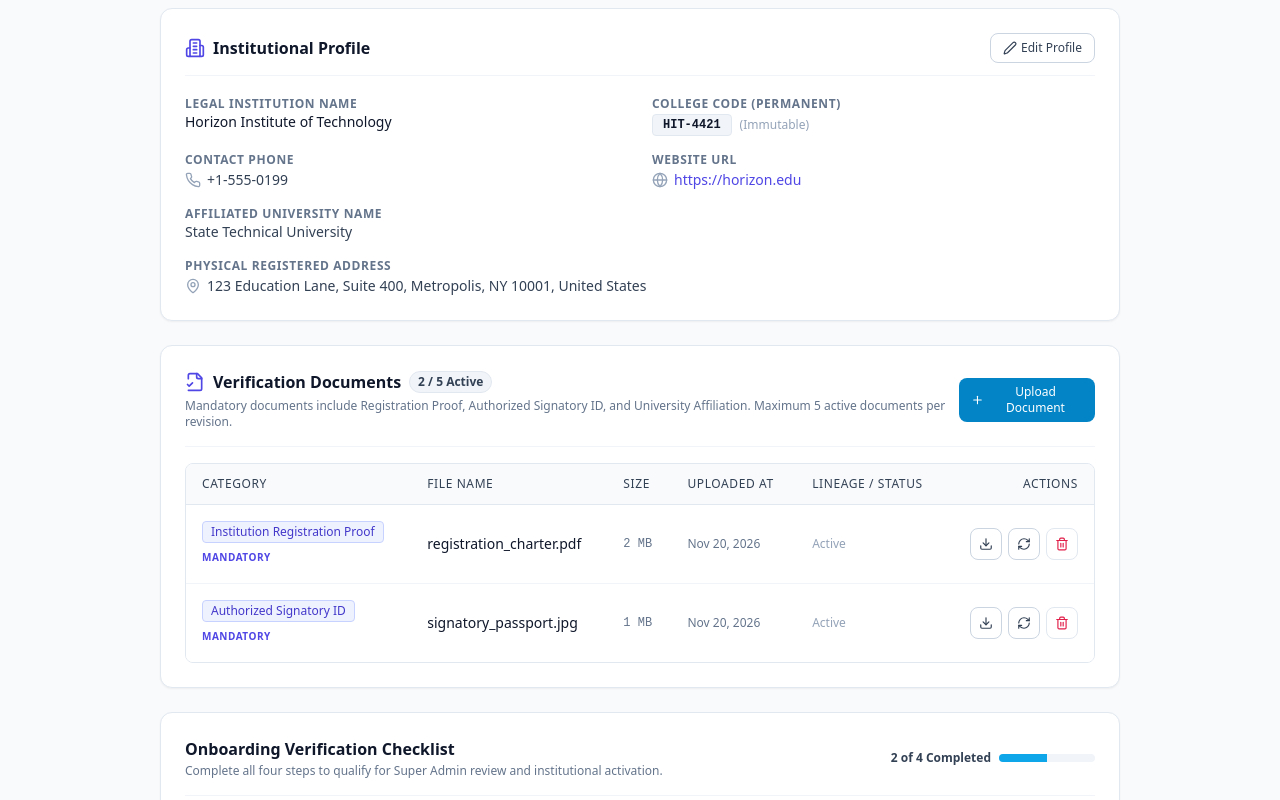
Scenario: Module 3.3 — College Admin Restricted Dashboard (Frontend) › 18. opens DocumentUploadModal and validates file selection
The width and height of the screenshot is (1280, 800).
(page scrolled)
Click the button "Upload Document".
click(1027, 400)  # box left=959, top=378, right=1095, bottom=422
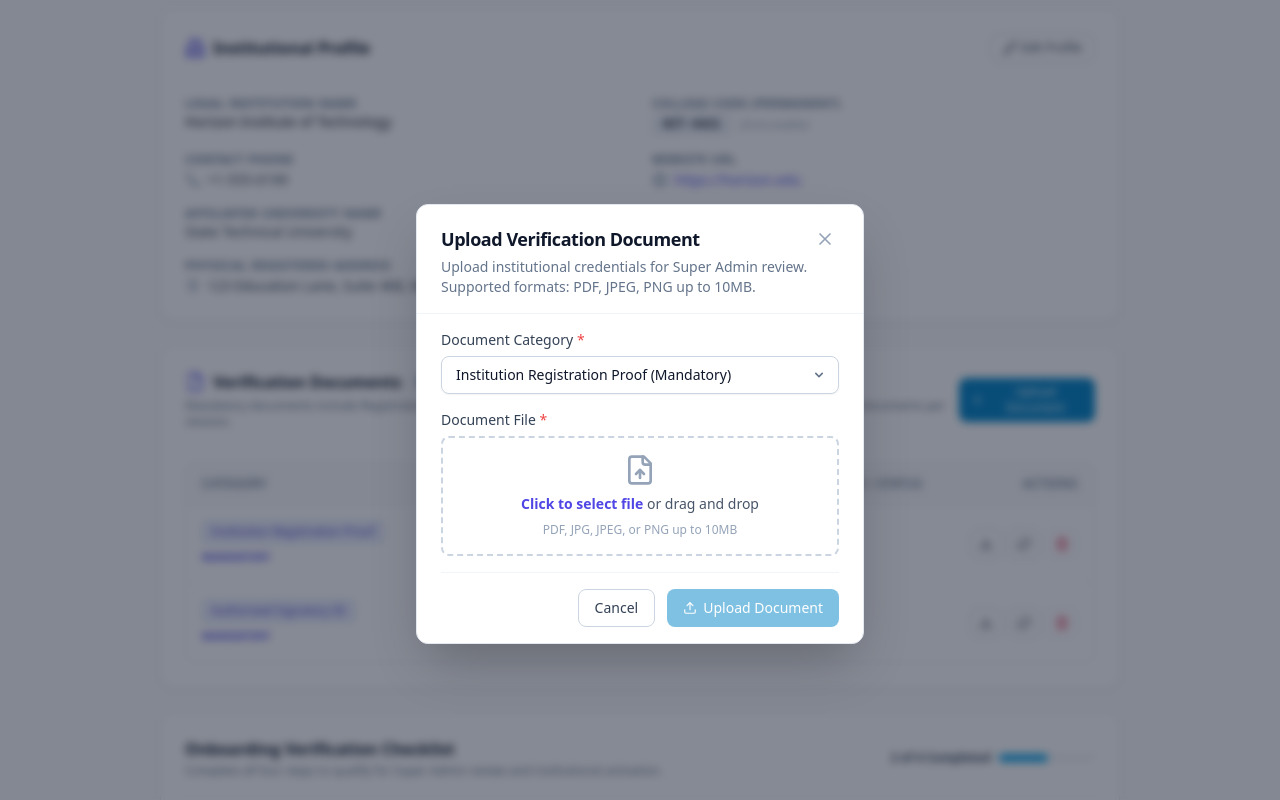
Expected: the dialog is shown
Expected: the heading "Upload Verification Document" is shown, left=441, top=227, right=700, bottom=251
